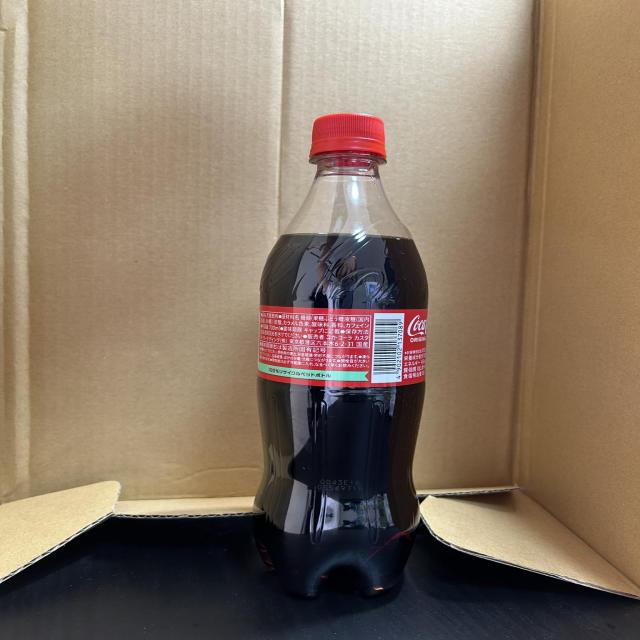high: (254, 113, 428, 596)
